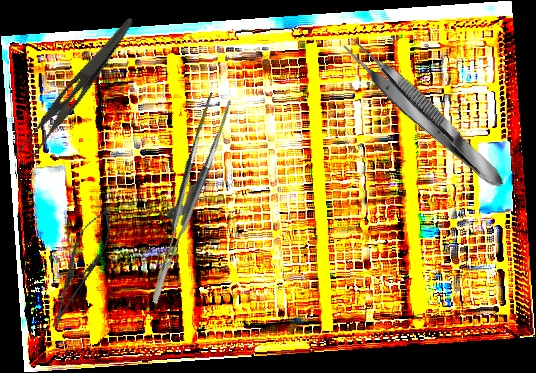Dressing Forceps: (11, 5, 136, 171)
Needle Holder: (39, 202, 121, 335)
Tissue Forceps: (336, 31, 512, 197), (117, 92, 251, 304)
